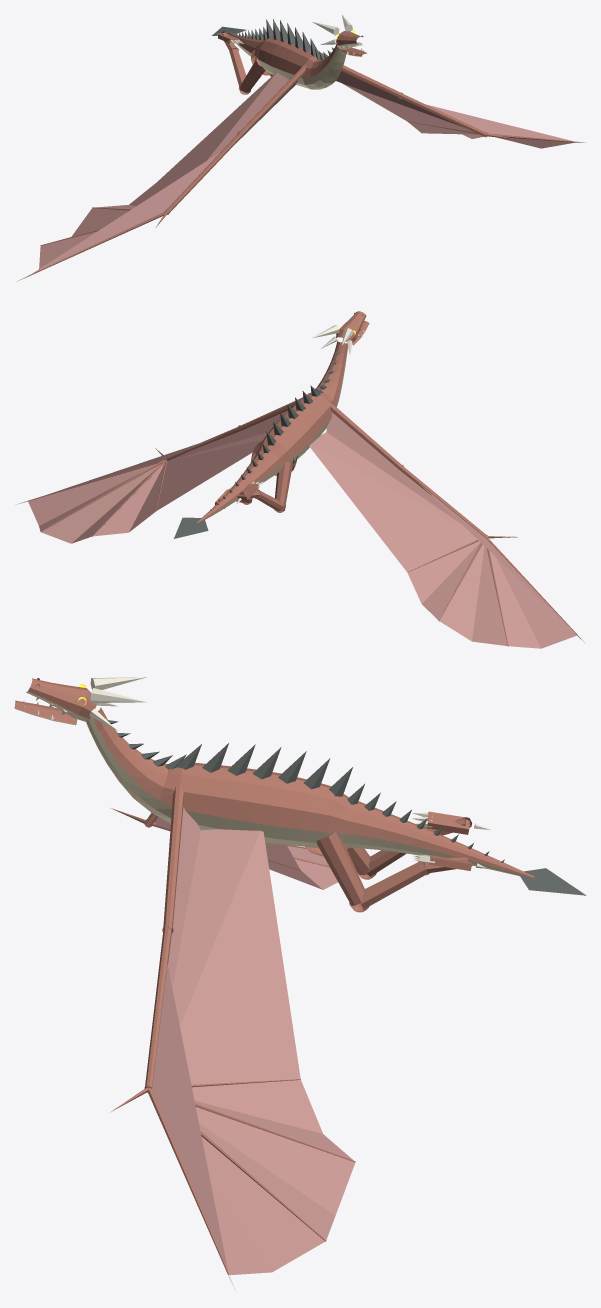
File: dragons-and-wyverns-wyvern-flying-wings-down-1fe20ea3__36718.glb
3 renders of one model, top to bottom at view 1: azimuth 30°, elevation 25°; view 2: azimuth 150°, elevation 25°; view 3: azimuth 270°, elevation 25°, orthographic. The views are drawn at different scales.
Visible parts, largest first — view 1: wyvern-flying-wings-down; view 2: wyvern-flying-wings-down; view 3: wyvern-flying-wings-down.
Boxes of the visible parts, box(x1,y1,x2,y2) form: wyvern-flying-wings-down: box(16, 15, 585, 281); wyvern-flying-wings-down: box(15, 311, 585, 648); wyvern-flying-wings-down: box(14, 677, 586, 1292).
Size of the model in its own units: 12.33 by 4.62 by 6.25.
